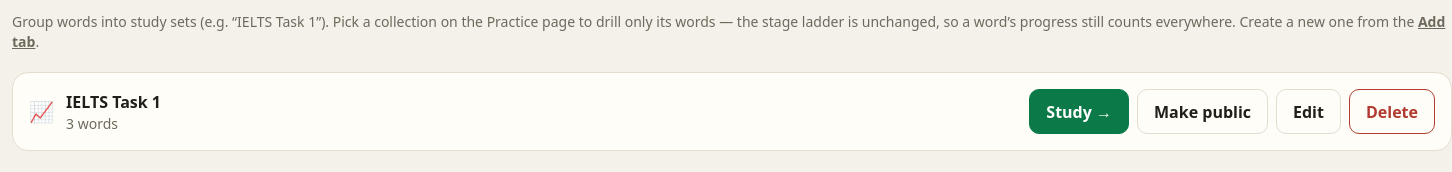
Scenario: Collections — visibility toggle flips even when the refetch is stale › shows 'Make private' + Public chip from the PATCH response, not a stale refetch
The width and height of the screenshot is (1452, 172).
Click the button "Make public": (1202, 112) [1137, 89, 1268, 134]
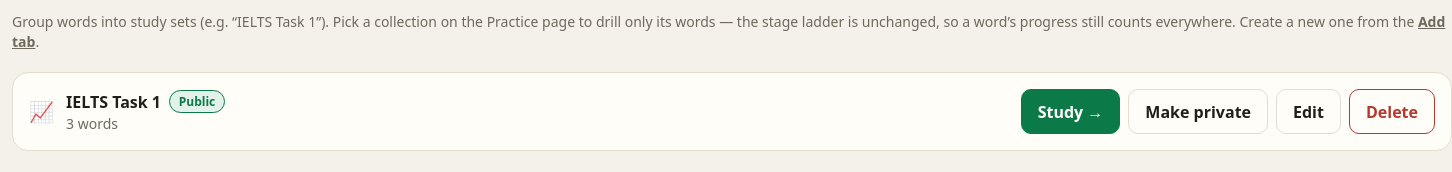
Check: the text "Public" is shown, box [169, 90, 225, 113]
Check: the button "Make private" is shown, box [1128, 89, 1268, 134]
